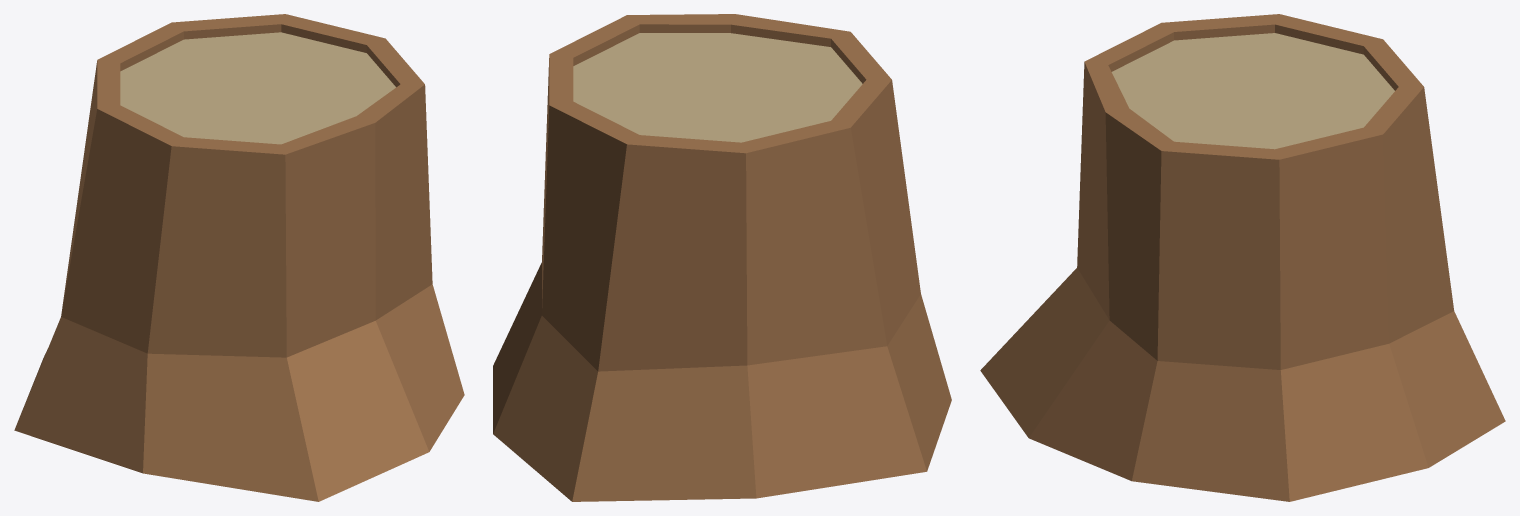
Rendered from Treestumb_1.fbx.
3 views of the same model, side by side, from view 1: azimuth 30°, elevation 25°; view 2: azimuth 150°, elevation 25°; view 3: azimuth 270°, elevation 25° (orthographic). The views are drawn at different scales.
Parts seen in each view (by area): view 1: Treestumb_mesh; view 2: Treestumb_mesh; view 3: Treestumb_mesh.
Boxes of the visible parts, x1,y1,x2,y2 form: Treestumb_mesh: (14,14,464,501); Treestumb_mesh: (493,14,951,501); Treestumb_mesh: (980,14,1505,501).
Bounding box in the file's own units: 61.89 × 45.06 × 65.47.
